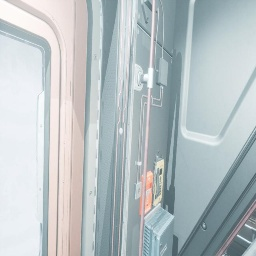EmergencyPhone ,: (151, 150, 164, 207)
FireAlarm ,: (139, 171, 153, 216)
